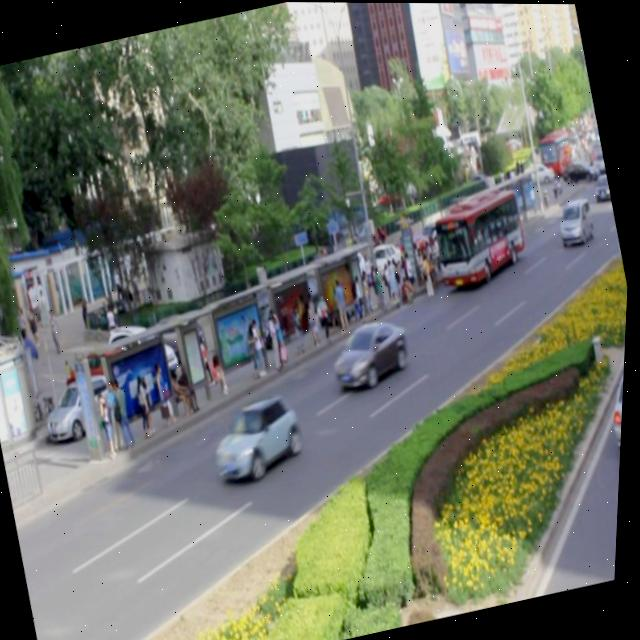car: (209, 390, 311, 482), (328, 312, 419, 392)
truck: (553, 194, 598, 245)
van: (427, 181, 534, 289)
